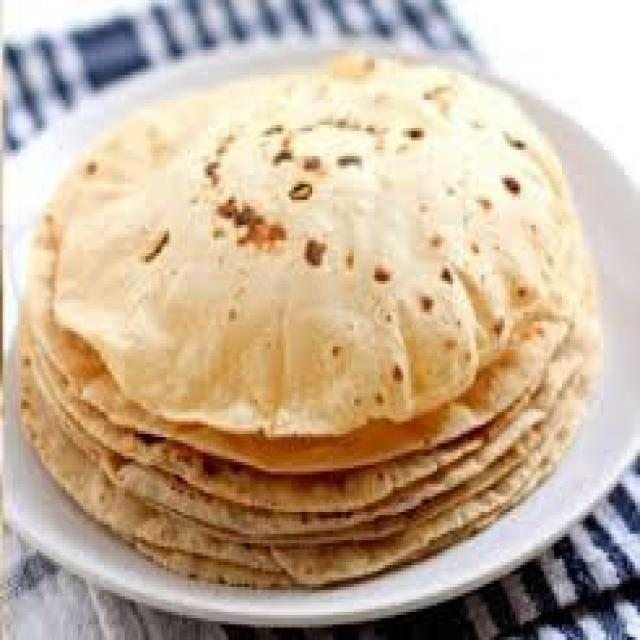CHAPATHI: (15, 44, 604, 587)
